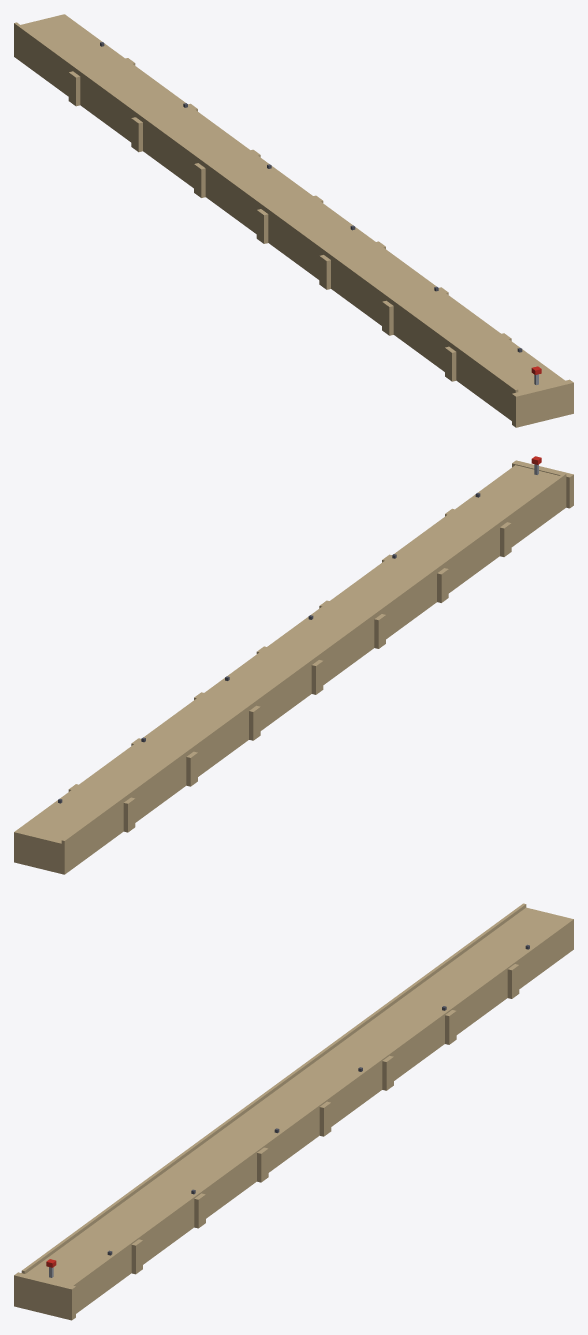
Rendered from Kit_Pier.glb.
3 views of the same model, one above another, from view 1: azimuth 30°, elevation 25°; view 2: azimuth 150°, elevation 25°; view 3: azimuth 330°, elevation 25° (orthographic).
Visible parts, largest first — view 1: Kit_Pier; view 2: Kit_Pier; view 3: Kit_Pier.
Boxes of the visible parts, x1,y1,x2,y2 form: Kit_Pier: (14, 14, 573, 427); Kit_Pier: (14, 456, 573, 874); Kit_Pier: (14, 903, 573, 1320).
Bounding box in the file's own units: 16.4 × 12.2 × 242.
